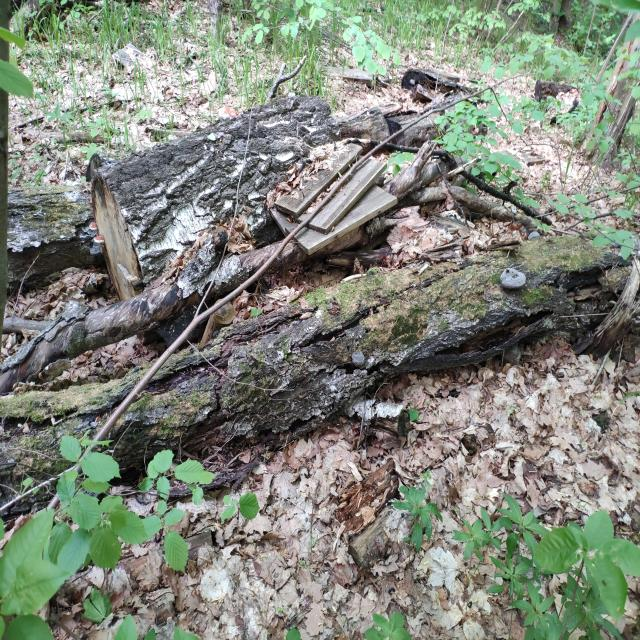restos de madeira: (135, 93, 548, 378), (440, 214, 638, 372), (0, 262, 237, 388), (273, 145, 402, 265), (5, 183, 102, 289), (91, 168, 149, 306), (1, 310, 99, 390), (226, 92, 324, 161), (1, 456, 93, 522), (576, 302, 634, 362), (407, 71, 472, 98), (35, 128, 110, 146), (269, 58, 308, 90), (14, 114, 57, 130)
